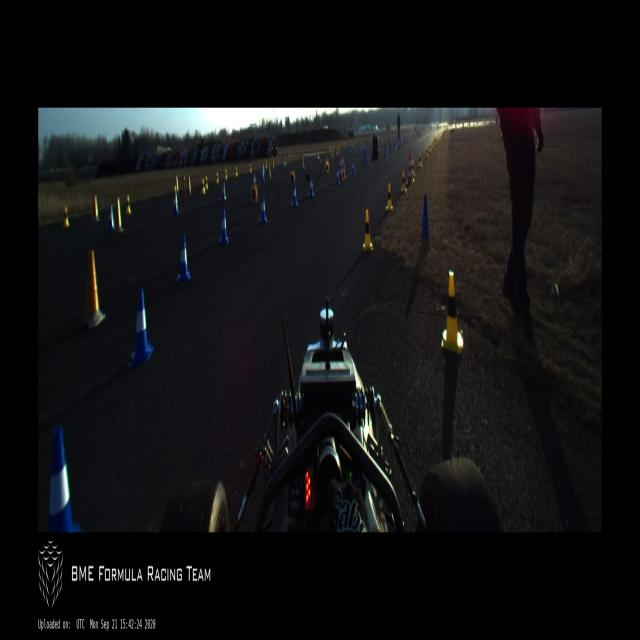blue_cone: (48, 428, 81, 532), (128, 288, 153, 368), (177, 236, 190, 284), (220, 210, 228, 245), (259, 193, 267, 224), (107, 204, 115, 230), (291, 183, 298, 208), (173, 193, 179, 215), (221, 182, 227, 203), (309, 175, 314, 197), (335, 168, 340, 186), (351, 160, 355, 175), (366, 154, 370, 166), (261, 170, 265, 182), (253, 171, 256, 184), (389, 140, 392, 153), (384, 146, 387, 158), (392, 142, 395, 154), (302, 155, 304, 170), (398, 139, 400, 150), (402, 137, 404, 147), (336, 150, 338, 160), (318, 153, 320, 162), (406, 135, 408, 144), (283, 160, 285, 168), (350, 148, 352, 156), (359, 148, 361, 155)
large_orange_cone: (406, 153, 413, 184), (338, 154, 344, 181), (409, 152, 414, 182), (342, 152, 346, 180)
orange_cone: (272, 158, 275, 170), (367, 139, 369, 150), (354, 147, 356, 156)
unknown_cone: (86, 248, 106, 330), (418, 195, 432, 252), (116, 197, 123, 231), (94, 195, 100, 221), (182, 176, 187, 197), (268, 162, 272, 181), (175, 175, 179, 191), (188, 176, 191, 194), (324, 151, 328, 162), (364, 149, 366, 164), (288, 153, 290, 165)
yellow_cone: (441, 271, 463, 354), (363, 209, 373, 253), (386, 184, 393, 211), (63, 206, 69, 228), (252, 183, 257, 205), (401, 172, 406, 193), (126, 194, 131, 215), (202, 178, 206, 196), (418, 152, 422, 168), (425, 146, 429, 159), (224, 169, 228, 182), (325, 161, 329, 174), (291, 171, 295, 184), (412, 160, 415, 177), (205, 176, 208, 190), (235, 165, 238, 178), (249, 163, 252, 175), (216, 172, 219, 183), (429, 143, 431, 155), (265, 159, 267, 169), (434, 136, 436, 146), (329, 144, 331, 154), (330, 148, 332, 158), (338, 144, 340, 154), (432, 141, 434, 150), (435, 134, 437, 142), (418, 134, 420, 142), (427, 134, 429, 142), (317, 151, 319, 159), (333, 143, 335, 151), (410, 134, 412, 141), (344, 142, 346, 149), (415, 133, 417, 139), (413, 133, 414, 139)
